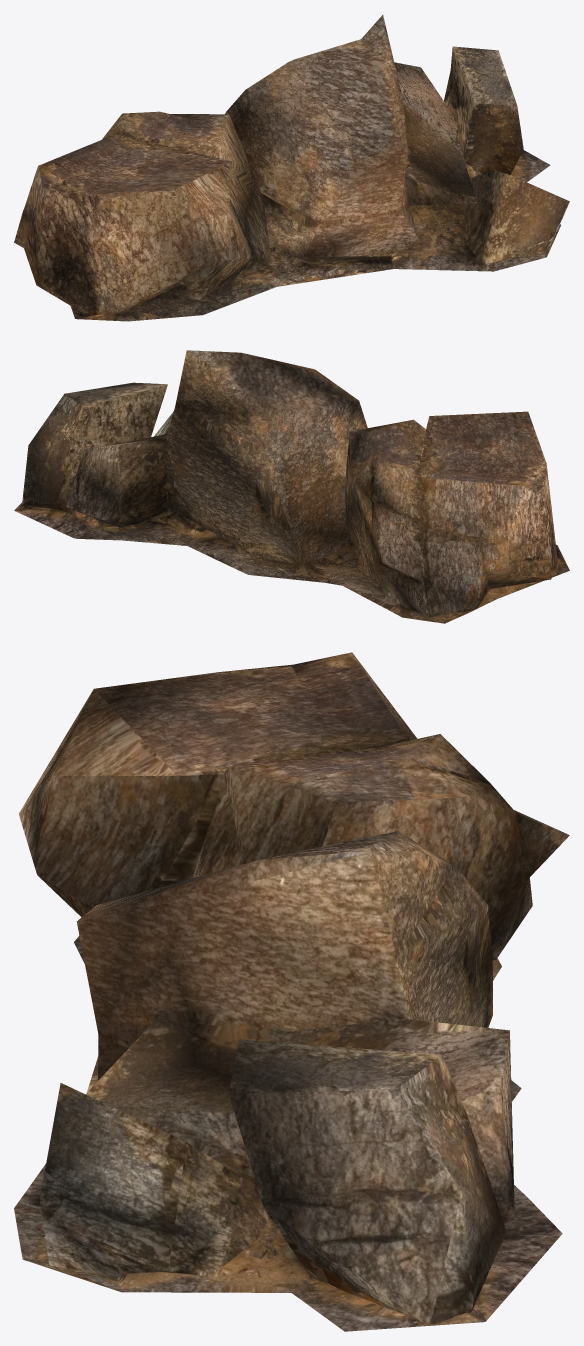
File: namaqualand_boulder_02.glb
The picture shows the model from 3 angles, top to bottom: view 1: azimuth 30°, elevation 25°; view 2: azimuth 150°, elevation 25°; view 3: azimuth 270°, elevation 25°; orthographic projection. The views are drawn at different scales.
Parts seen in each view (by area): view 1: boulder_02; view 2: boulder_02; view 3: boulder_02.
Boxes of the visible parts, x1,y1,x2,y2 form: boulder_02: (14, 15, 569, 321); boulder_02: (14, 350, 569, 623); boulder_02: (14, 652, 569, 1331).
Size of the model in its own units: 2.45 by 0.8563 by 1.23.
Materials: 1 (1 with a texture image).
